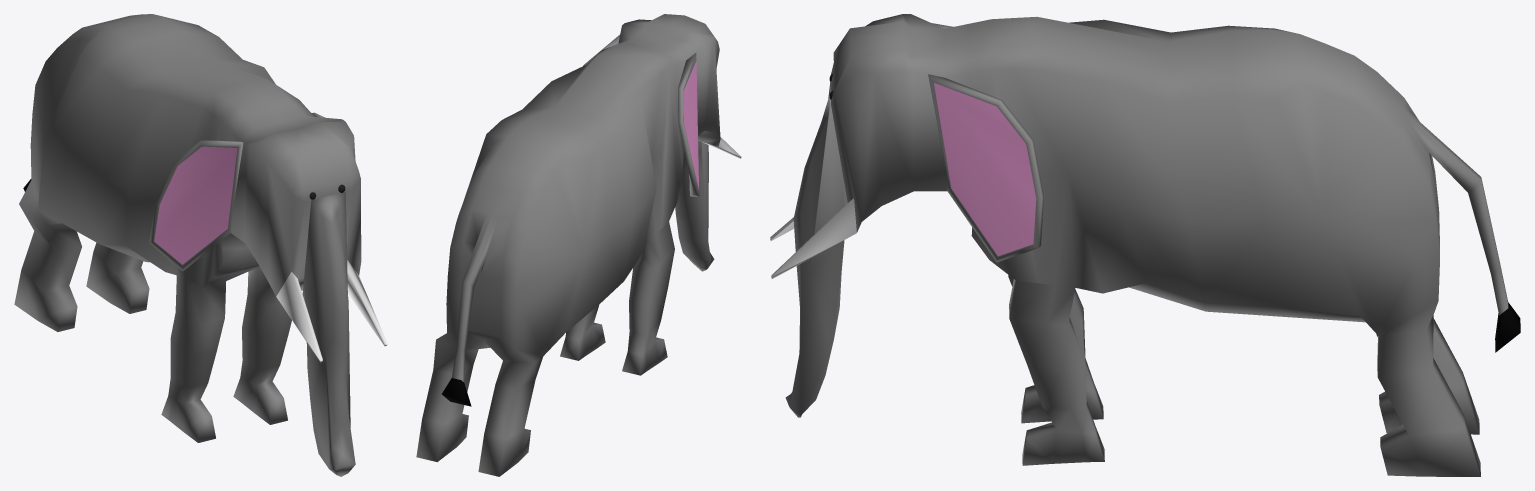
Rendered from elephantt.fbx.
3 renders of one model, left to right at view 1: azimuth 30°, elevation 25°; view 2: azimuth 150°, elevation 25°; view 3: azimuth 270°, elevation 25°, orthographic. The views are drawn at different scales.
Parts seen in each view (by area): view 1: Plane.014; view 2: Plane.014; view 3: Plane.014.
Boxes of the visible parts, bbox=[...] form: Plane.014: bbox=[14, 14, 387, 476]; Plane.014: bbox=[416, 14, 741, 476]; Plane.014: bbox=[770, 14, 1520, 476].
Bounding box in the file's own units: 2309 × 4178 × 6780.
